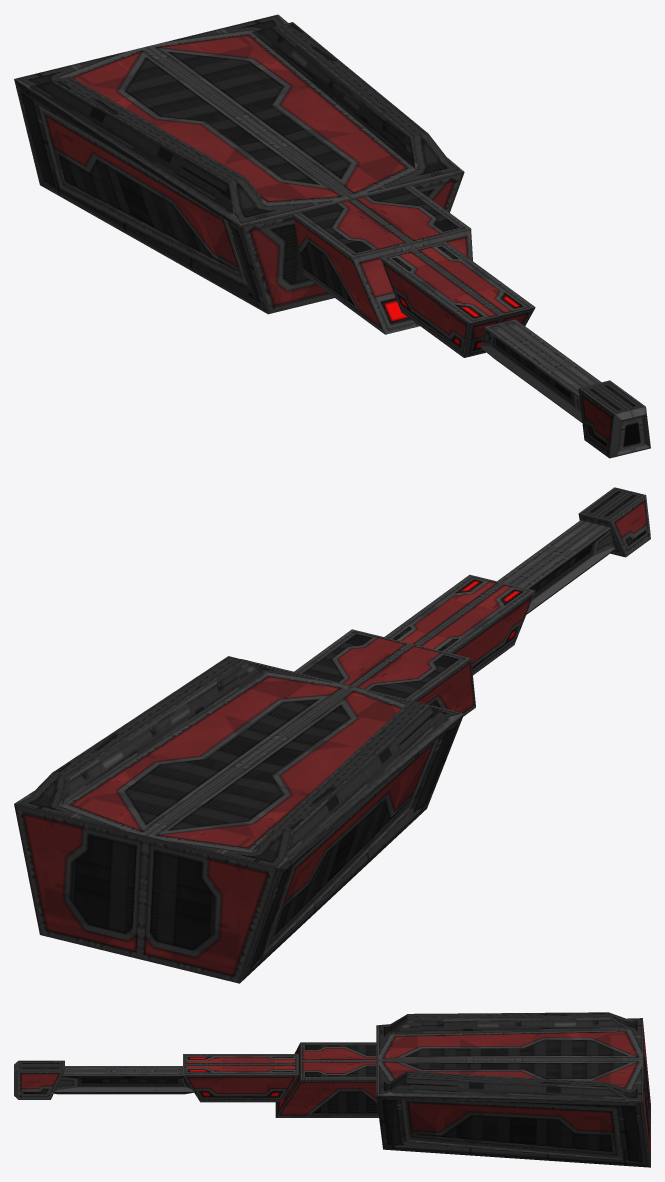
The model's file is BFP_PhaseCannon01_Lower.FBX.
3 views of the same model, one above another, from view 1: azimuth 30°, elevation 25°; view 2: azimuth 150°, elevation 25°; view 3: azimuth 270°, elevation 25° (orthographic). The views are drawn at different scales.
Visible parts, largest first — view 1: BFP_PhaseCannon01_Lower; view 2: BFP_PhaseCannon01_Lower; view 3: BFP_PhaseCannon01_Lower.
Boxes of the visible parts, x1=… form: BFP_PhaseCannon01_Lower: x1=14, y1=14, x2=650, y2=458; BFP_PhaseCannon01_Lower: x1=14, y1=487, x2=650, y2=983; BFP_PhaseCannon01_Lower: x1=14, y1=1012, x2=650, y2=1167.
Size of the model in its own units: 159 by 80.85 by 514.
Materials: 1 (1 with a texture image).
